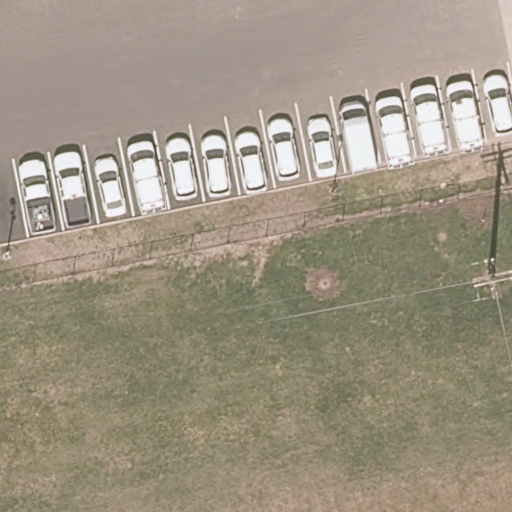DT: (471, 256, 502, 304)
